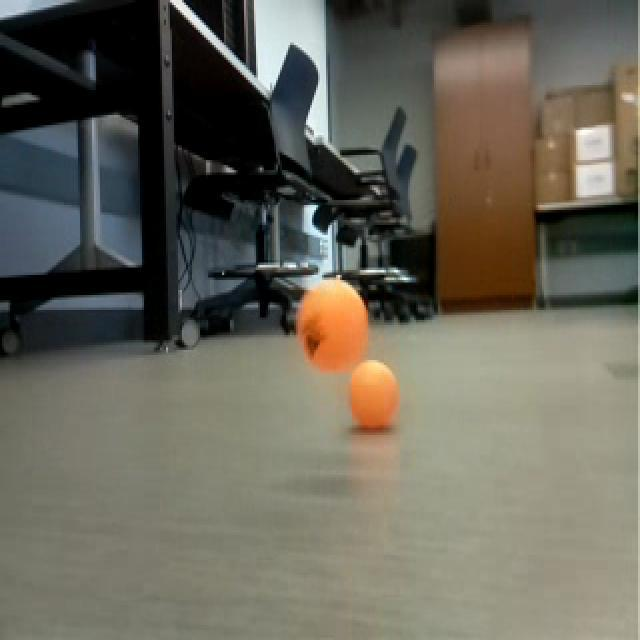oball: (299, 276, 368, 375), (351, 359, 402, 428)
